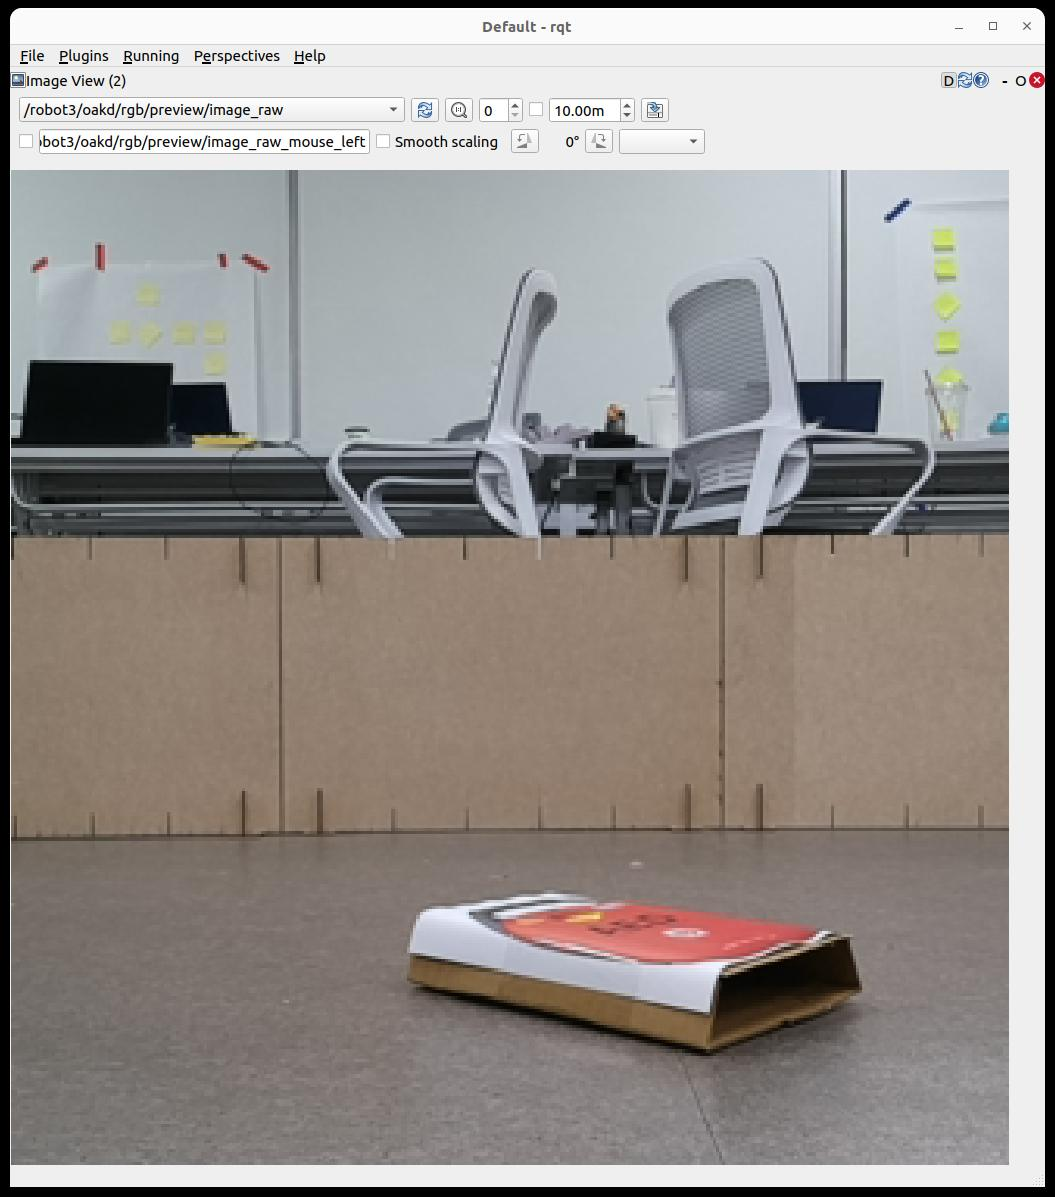AED: (473, 895, 821, 966)
